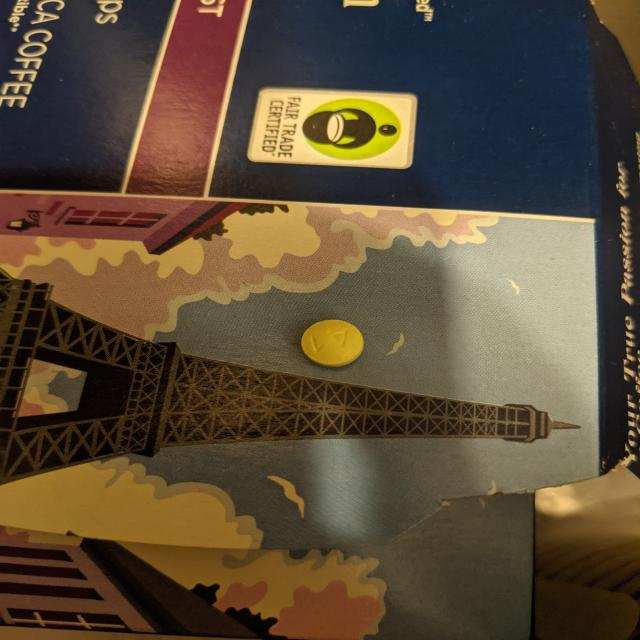non-organic waste: (300, 318, 365, 368)
